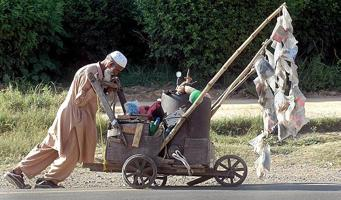person: (4, 50, 130, 190)
